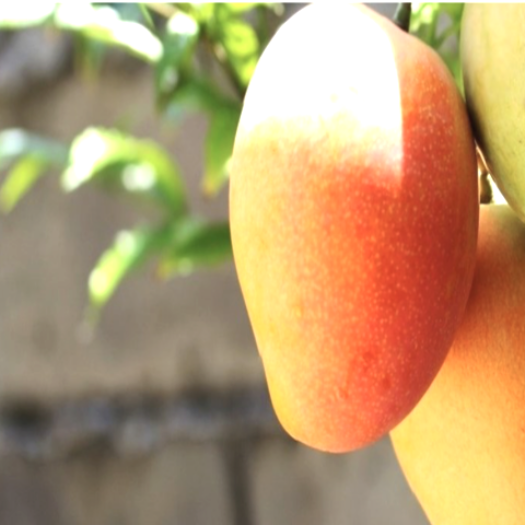mango: (207, 0, 515, 497)
